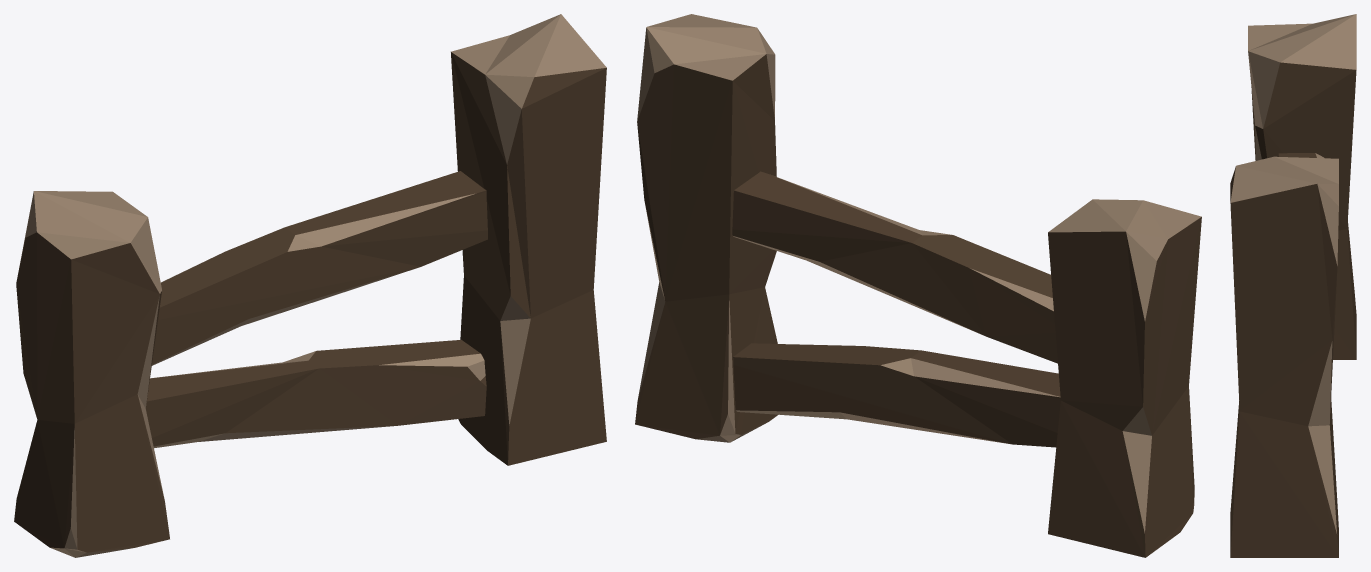
Rendered from Railing_B_02.FBX.
3 views of the same model, side by side, from view 1: azimuth 30°, elevation 25°; view 2: azimuth 150°, elevation 25°; view 3: azimuth 270°, elevation 25° (orthographic). The views are drawn at different scales.
Parts seen in each view (by area): view 1: Railing_B_02; view 2: Railing_B_02; view 3: Railing_B_02.
Boxes of the visible parts, x1,y1,x2,y2 form: Railing_B_02: (14,14,606,557); Railing_B_02: (635,14,1201,557); Railing_B_02: (1230,14,1356,557).
Size of the model in its own units: 1.79 by 1.28 by 0.3915.
